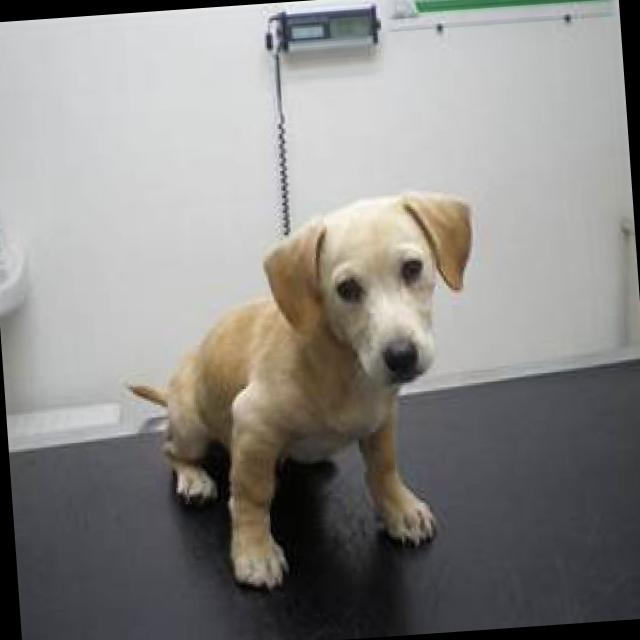animal: (101, 154, 520, 640)
